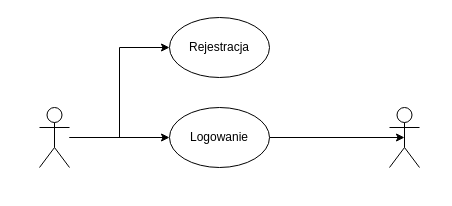
The diagram is 452 pixels wide and 206 high, and some of its shapes have lost their labels. Here are the shapes that lost their labels. From the top down, the centre of each, then its label:
At [54,137]: "Odwiedzający".
At [404,137]: "Użytkownik".
